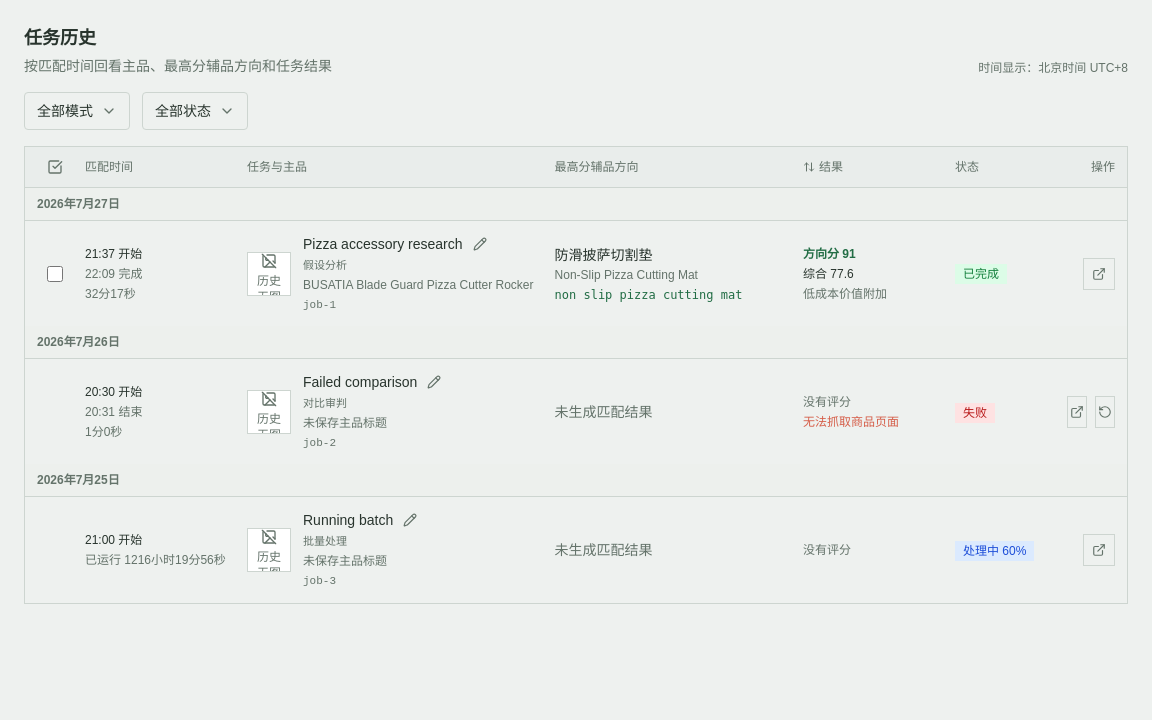
Test: filters by status
Expected: the text "job-1" is shown, [303,299,336,311]
Step 1. Click the button "全部状态" → click(195, 111), box [142,92,248,130]
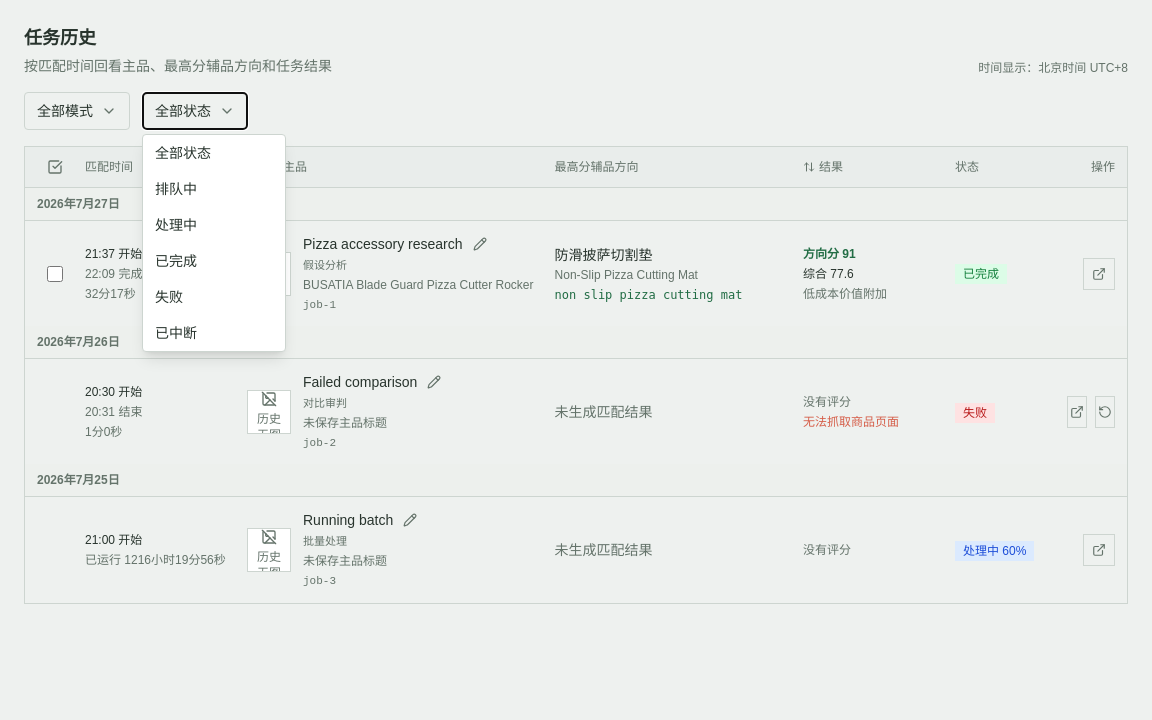
Step 2. Click the option "失败" → click(214, 297), box [143,279,285,315]
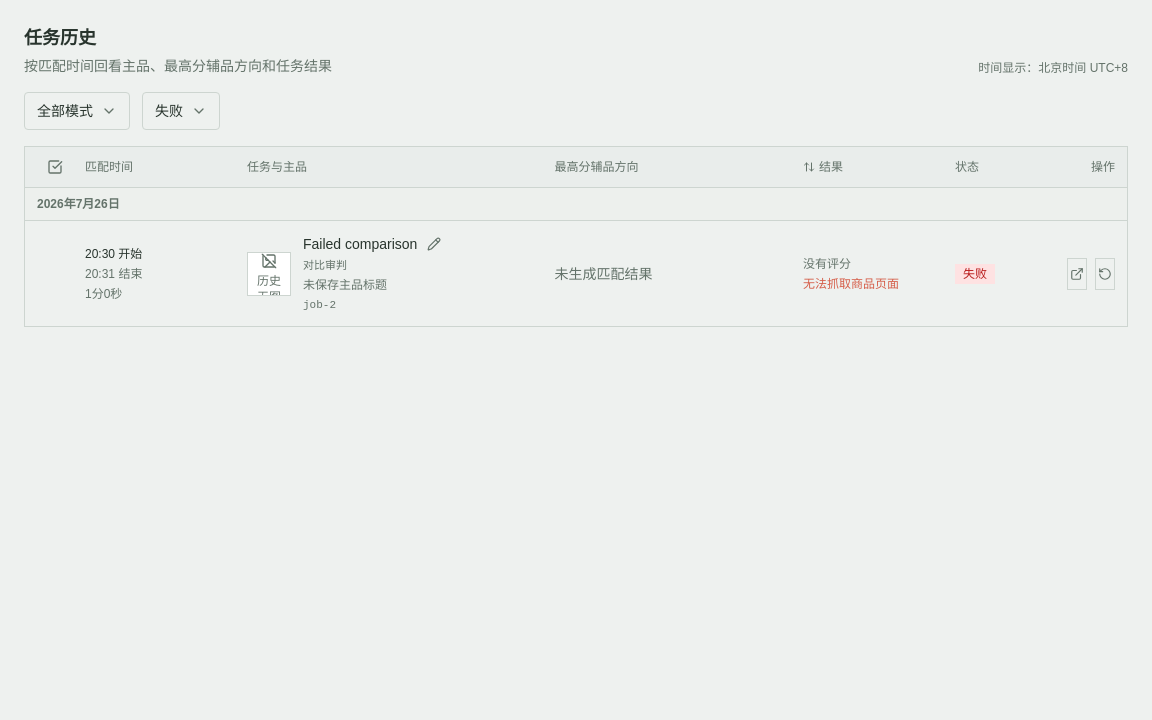
Expected: the text "job-2" is shown, [303,299,336,311]
Expected: the link "job-1" is gone
